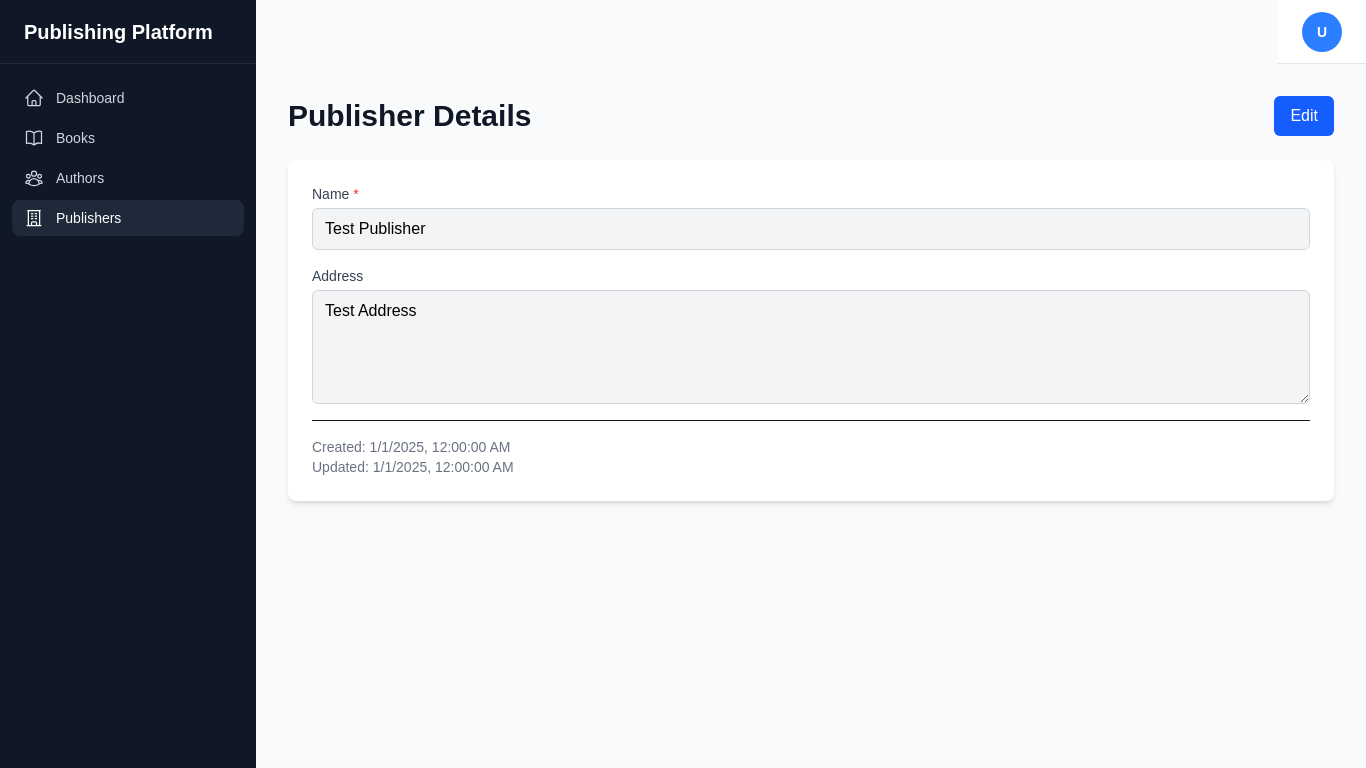
Test: PublisherDetailPage › View Mode › should enable edit mode when edit button is clicked
Expected: the field showing "Test Publisher" is disabled, [312, 208, 1310, 250]
Click the button "Edit" at (1304, 116), box [1274, 96, 1334, 136]
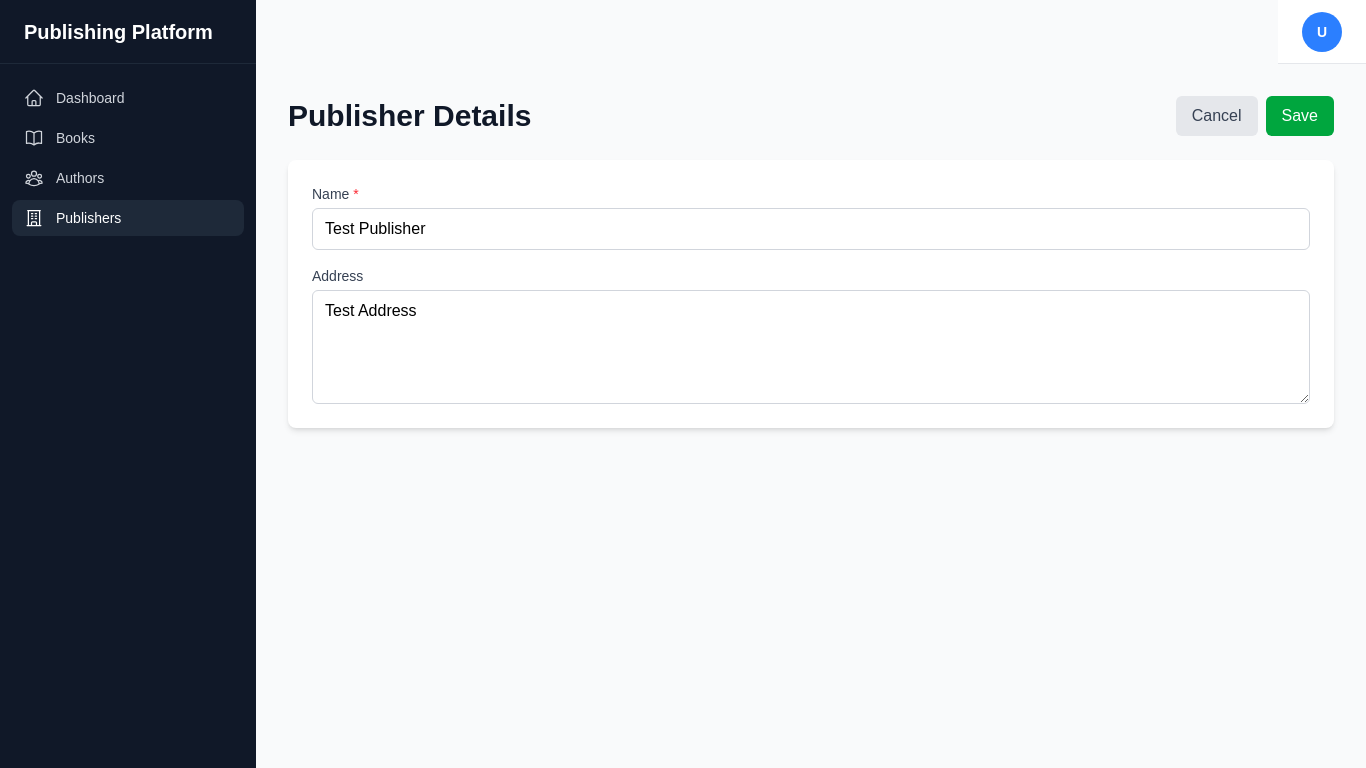
Expected: the field showing "Test Publisher" is enabled, [312, 208, 1310, 250]
Now the button "Save" is shown, box [1266, 96, 1334, 136]
